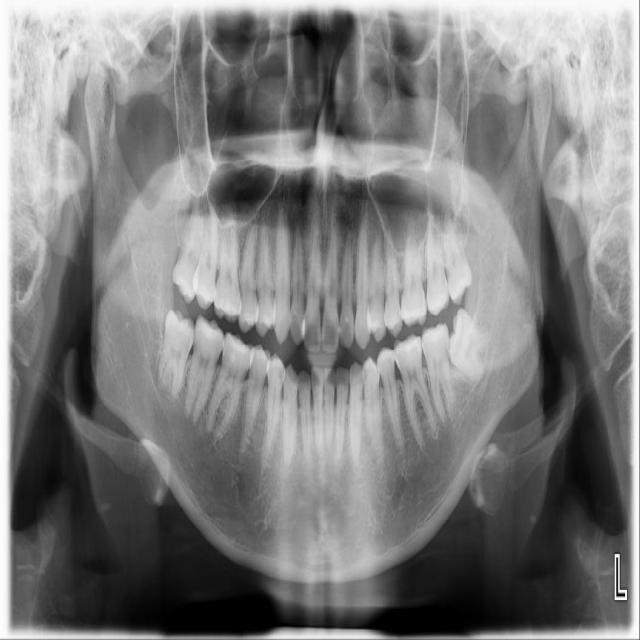impacted tooth: (158, 311, 192, 399), (450, 311, 493, 379)
